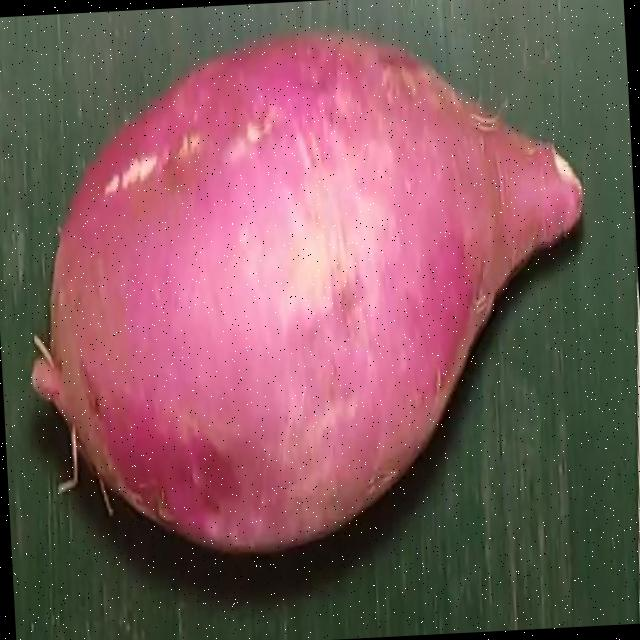Sweet Potato: (33, 32, 587, 553)
